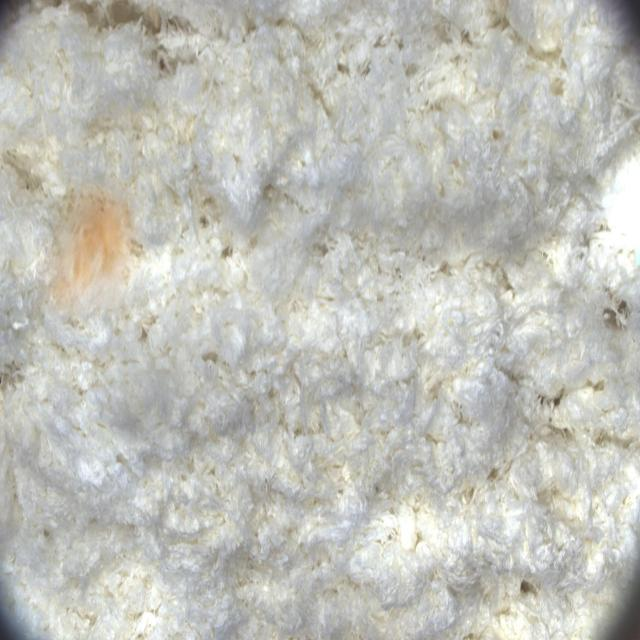dust: (34, 179, 150, 317)
